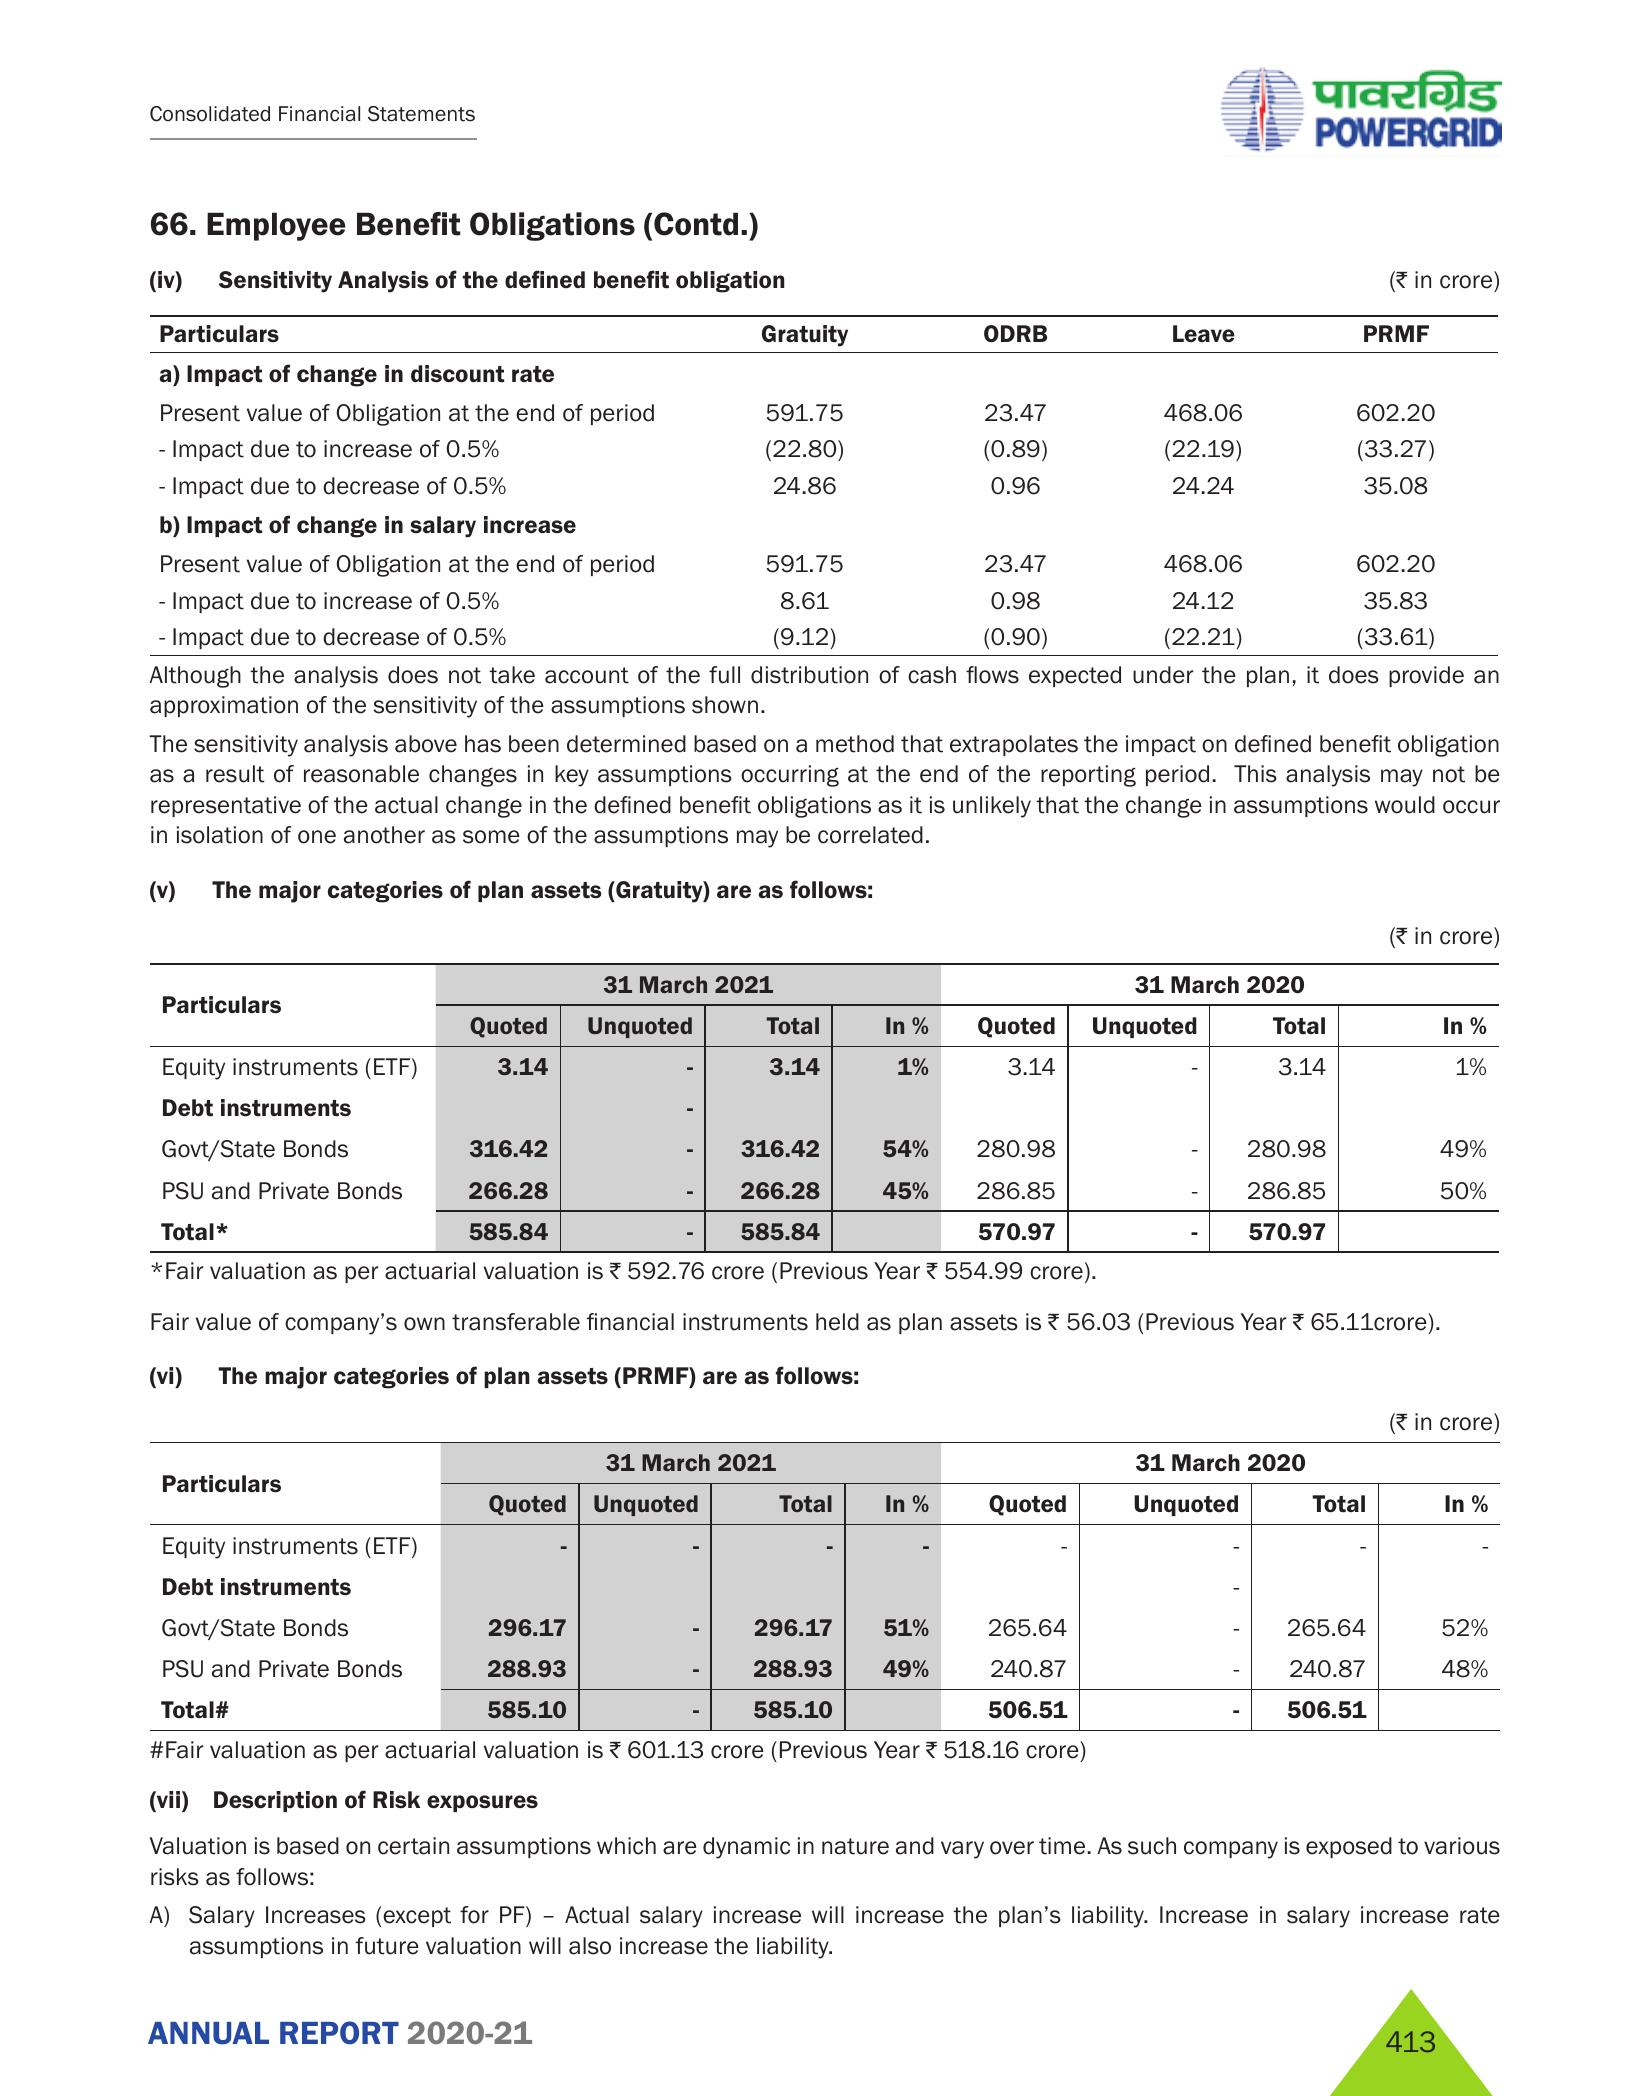Footer: (0, 1965, 1650, 2096)
Header: (0, 0, 1650, 168)
Table: (102, 306, 1495, 629), (134, 953, 1521, 1257), (155, 1438, 1516, 1723)
